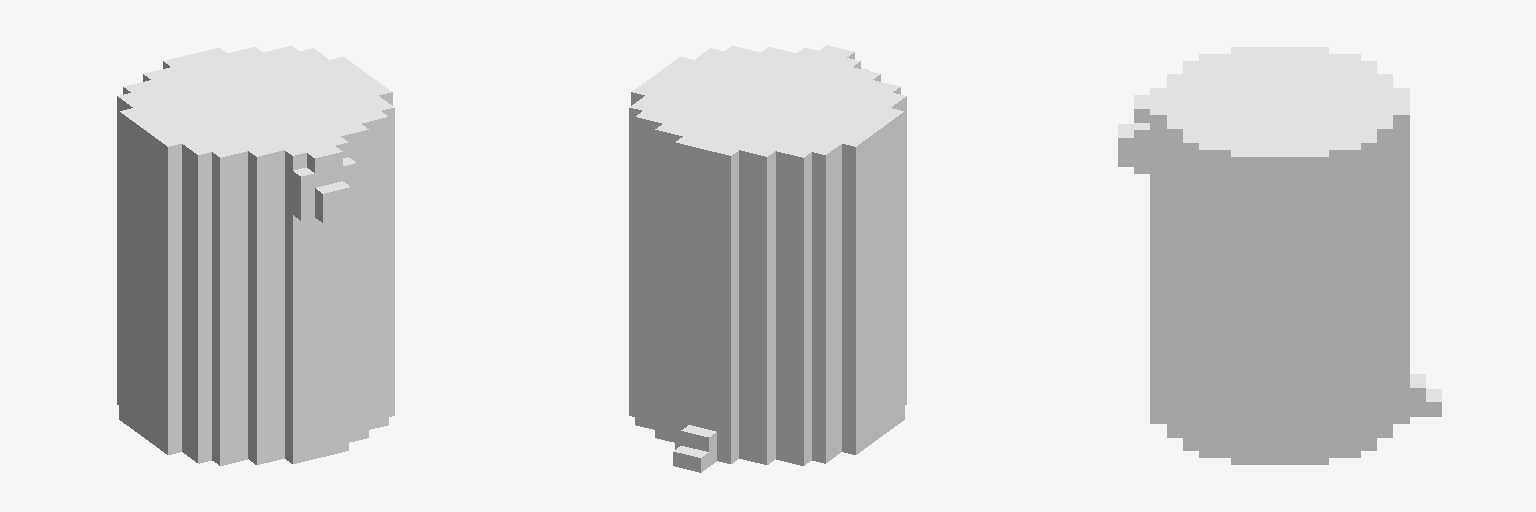
File: vedro.obj
The picture shows the model from 3 angles: view 1: azimuth 30°, elevation 25°; view 2: azimuth 150°, elevation 25°; view 3: azimuth 270°, elevation 25°; orthographic projection.
Visible parts, largest first — view 1: object 1; view 2: object 1; view 3: object 1.
Part boxes in pixels (x1,y1,x2,y2): object 1: (117, 46, 394, 465); object 1: (629, 45, 906, 472); object 1: (1118, 47, 1441, 464).
Bounding box in the file's own units: 1.6 × 2.1 × 2.